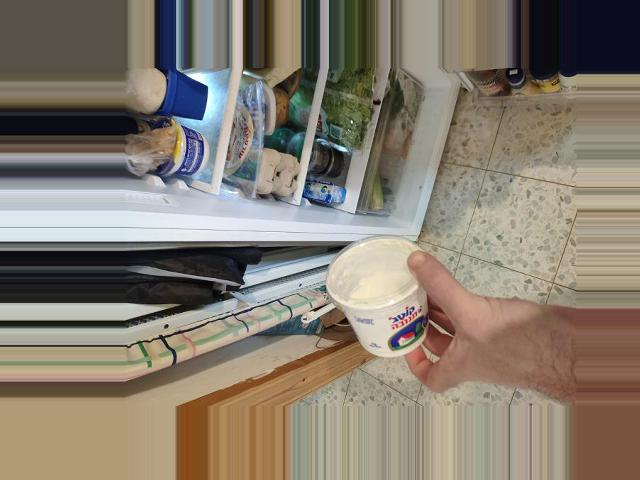cotage: (313, 243, 428, 352)
